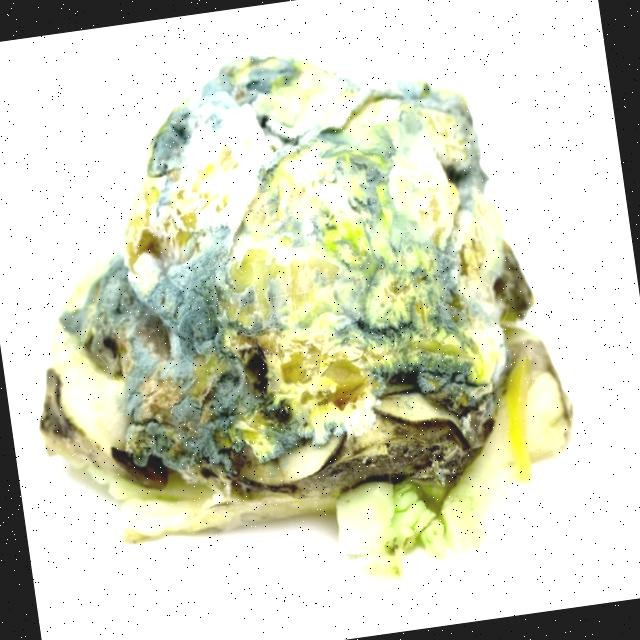rotten cabbage: (58, 35, 543, 560)
